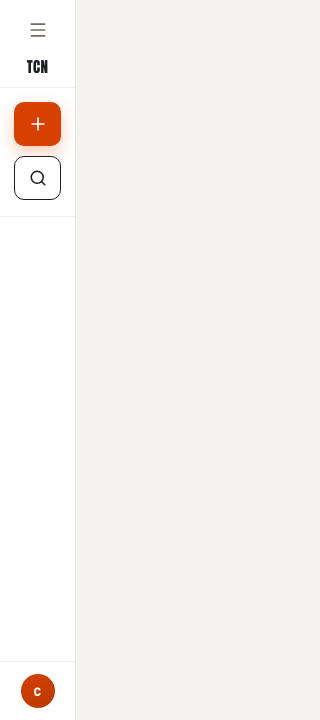
Scenario: AppNav — Gestion des utilisateurs (#170) › ouvre « Accès et mots de passe » à qui porte allowed_emails:manage
This screenshot has width=320, height=720.
What coordinates should you click on to do the following:
click the button named "Déplier la navigation"
I would click on:
 (38, 30)
Its box is [16,8,60,52].
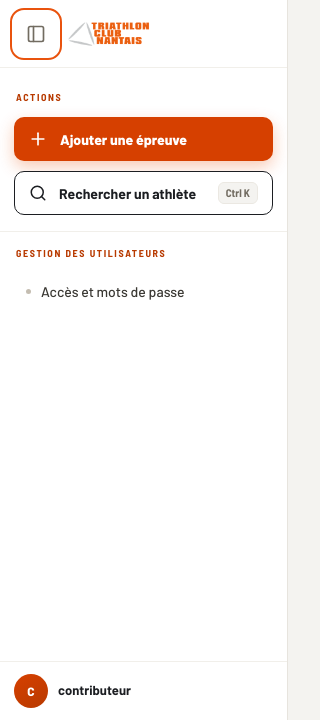
Now the text "Gestion des utilisateurs" is shown, box [16,247,166,259]
